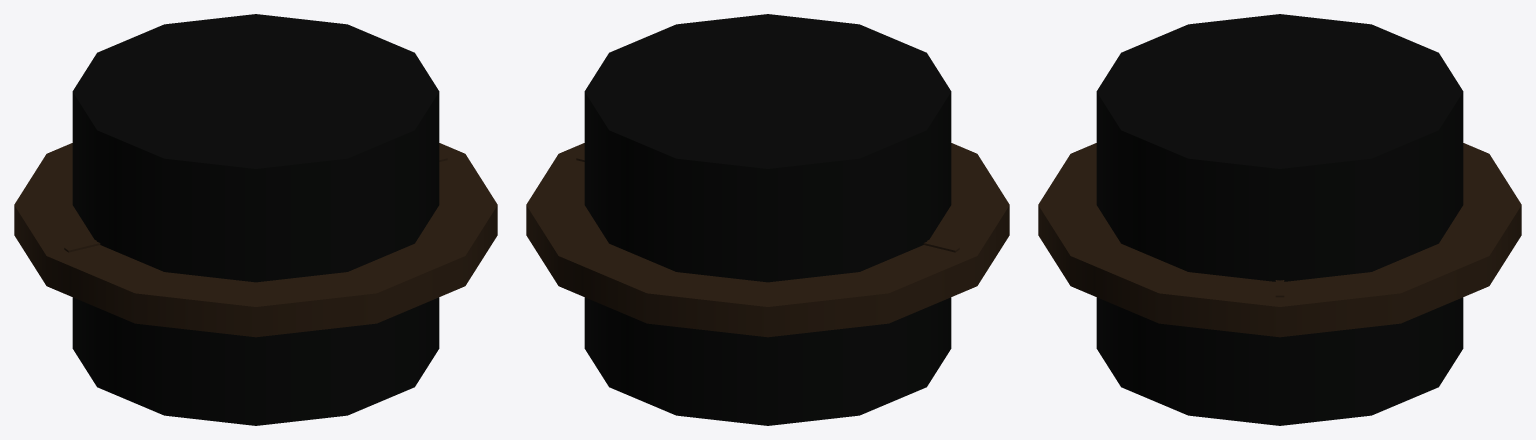
File: prop_high_voltage_cable_spool.obj
The picture shows the model from 3 angles, left to right: view 1: azimuth 30°, elevation 25°; view 2: azimuth 150°, elevation 25°; view 3: azimuth 270°, elevation 25°; orthographic projection.
Visible parts, largest first — view 1: prop_high_voltage_cable_spool_DA_0002, prop_high_voltage_cable_spool_DA_0000; view 2: prop_high_voltage_cable_spool_DA_0002, prop_high_voltage_cable_spool_DA_0000; view 3: prop_high_voltage_cable_spool_DA_0002, prop_high_voltage_cable_spool_DA_0000.
Boxes of the visible parts, x1,y1,x2,y2 form: prop_high_voltage_cable_spool_DA_0002: (72, 14, 439, 425); prop_high_voltage_cable_spool_DA_0000: (14, 143, 497, 337); prop_high_voltage_cable_spool_DA_0002: (584, 14, 951, 425); prop_high_voltage_cable_spool_DA_0000: (526, 143, 1009, 337); prop_high_voltage_cable_spool_DA_0002: (1096, 14, 1463, 425); prop_high_voltage_cable_spool_DA_0000: (1038, 143, 1521, 337).
Bounding box in the file's own units: 1.16 × 0.68 × 1.16.
